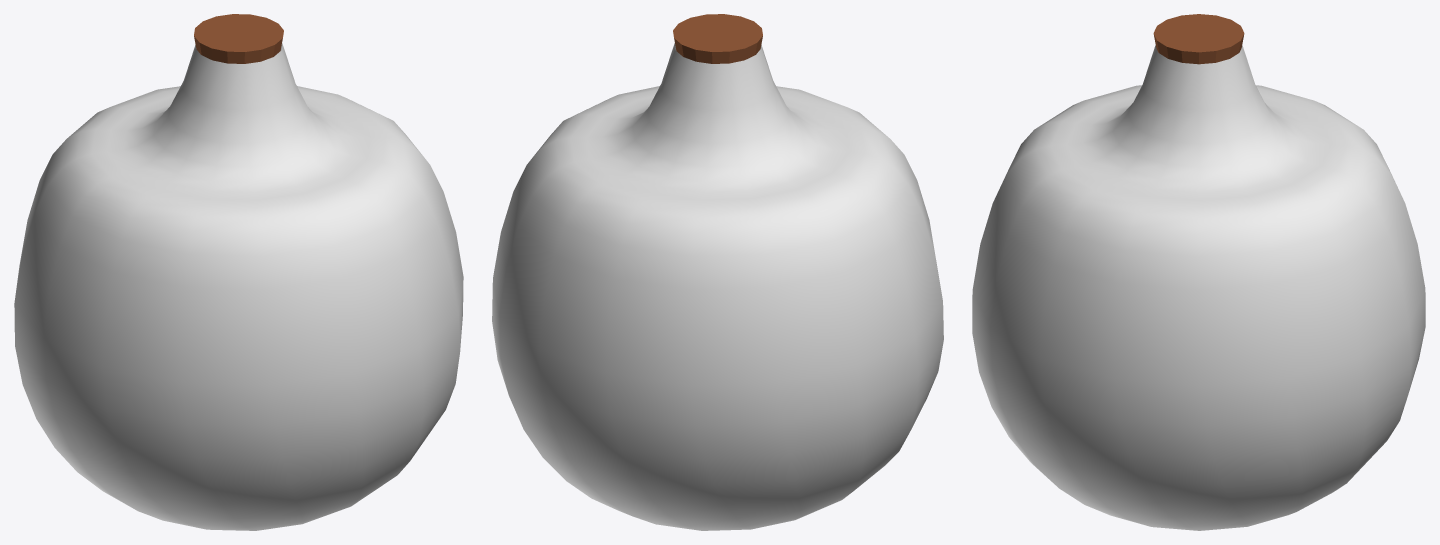
Rendered from potion orang.fbx.
3 renders of one model, left to right at view 1: azimuth 30°, elevation 25°; view 2: azimuth 150°, elevation 25°; view 3: azimuth 270°, elevation 25°, orthographic.
Visible parts, largest first — view 1: BézierCurve; view 2: BézierCurve; view 3: BézierCurve.
Part boxes in pixels (box(x1,y1,x2,y2)): BézierCurve: box(14, 14, 463, 530); BézierCurve: box(492, 14, 943, 530); BézierCurve: box(972, 14, 1425, 530).
Bounding box in the file's own units: 207 × 238 × 207.
